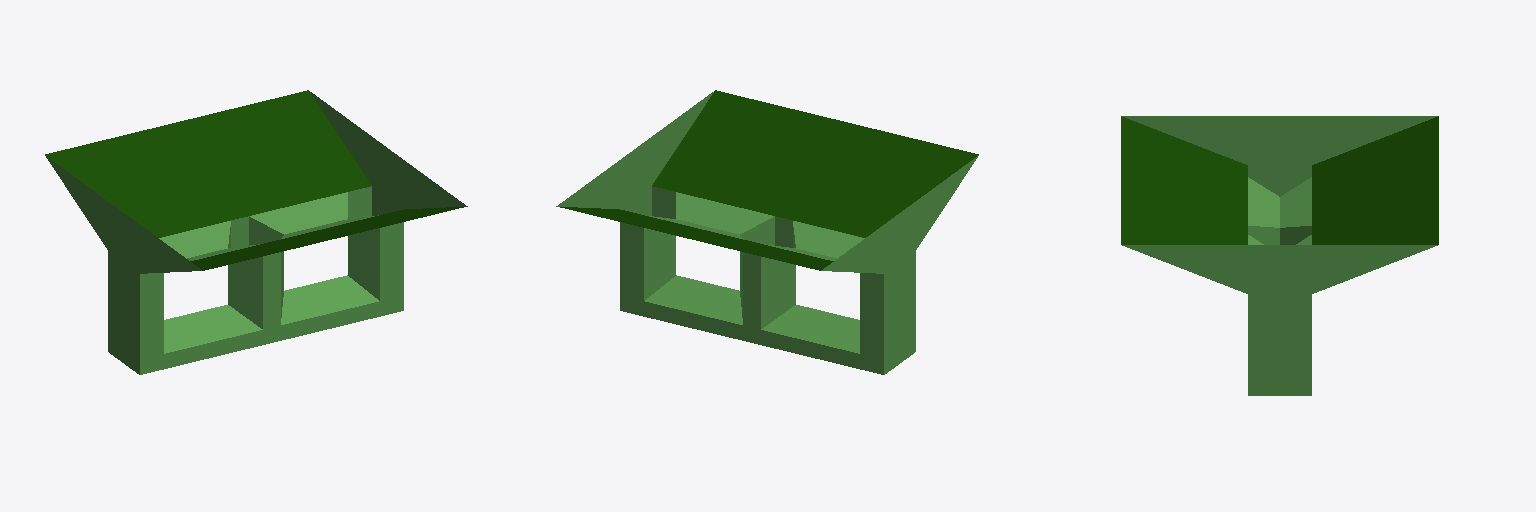
File: obstcl1.obj
The picture shows the model from 3 angles: view 1: azimuth 30°, elevation 25°; view 2: azimuth 150°, elevation 25°; view 3: azimuth 270°, elevation 25°; orthographic projection.
Parts seen in each view (by area): view 1: Cube.013_Cube.010; view 2: Cube.013_Cube.010; view 3: Cube.013_Cube.010.
Boxes of the visible parts, <box> form: Cube.013_Cube.010: <box>45,90,467,374</box>; Cube.013_Cube.010: <box>556,90,978,374</box>; Cube.013_Cube.010: <box>1121,116,1438,395</box>.
Size of the model in its own units: 192 by 105 by 200.